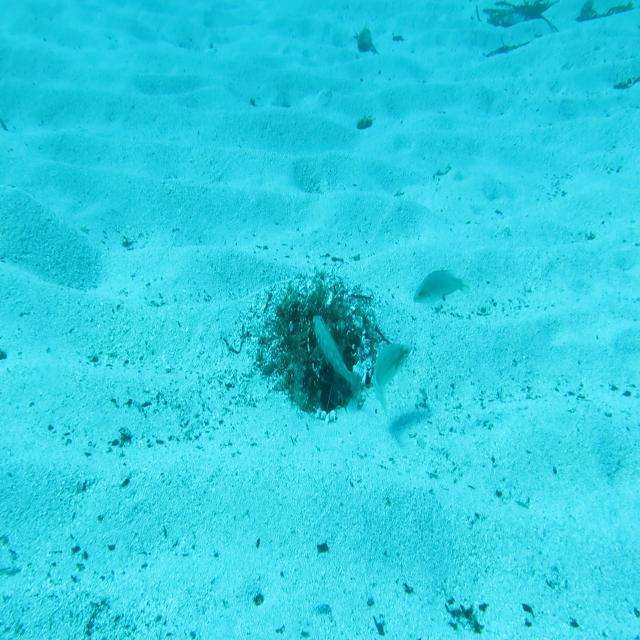SHAK: (310, 312, 365, 401)
female: (369, 339, 412, 421)
nest: (253, 270, 393, 418)
other_fish: (412, 262, 473, 311)
